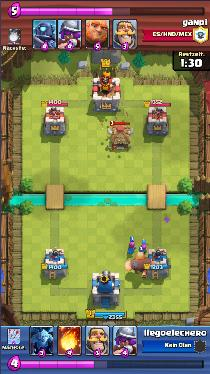ally_archer: (126, 240, 136, 255), (141, 242, 148, 253)
ally_giant: (125, 252, 156, 279)
enemy_goblin_hut: (108, 123, 134, 150)
